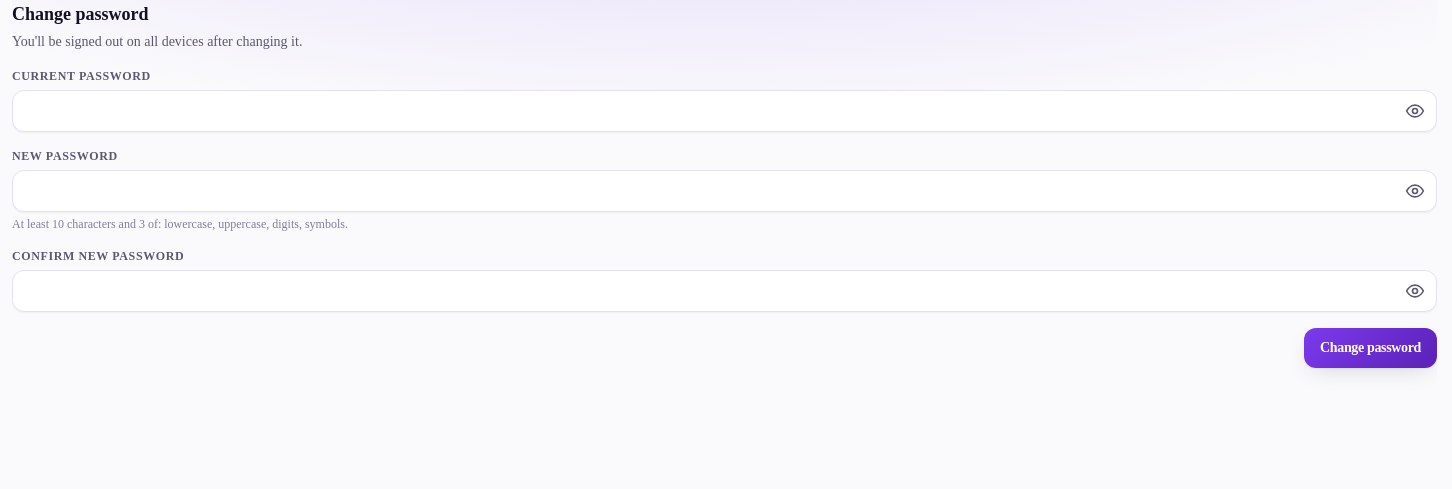
Test: ChangePasswordForm › rejects a weak new password client-side
In the password field labelled "Current password": (724, 111) [12,90,1437,132], type "OldPass123"
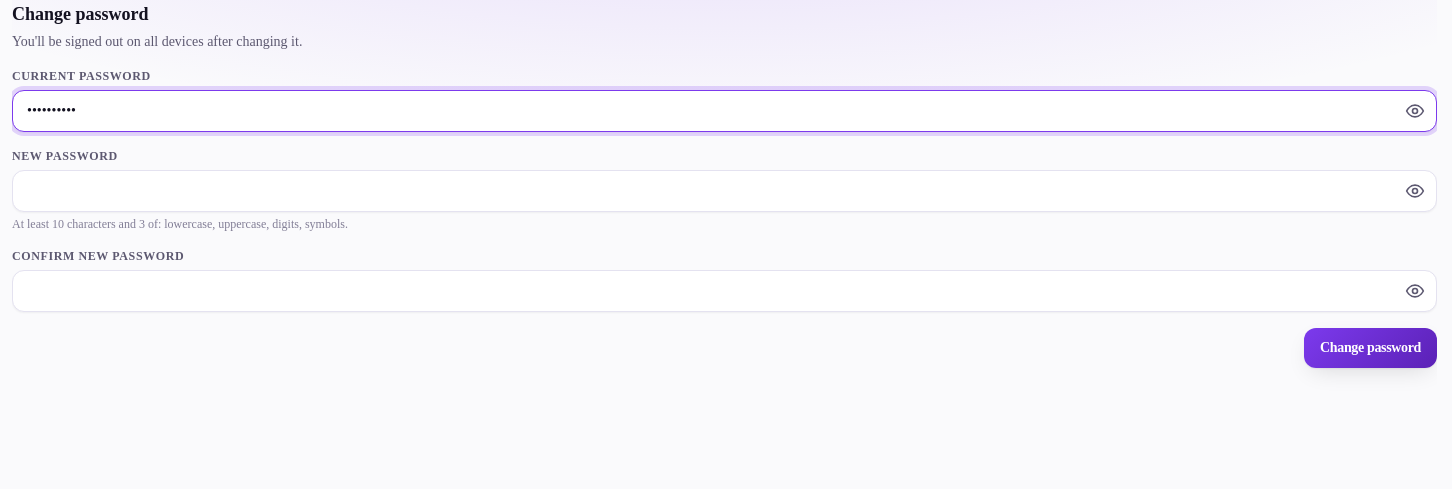
In the password field labelled "New password": (724, 191) [12,170,1437,212], type "abcdefghij"
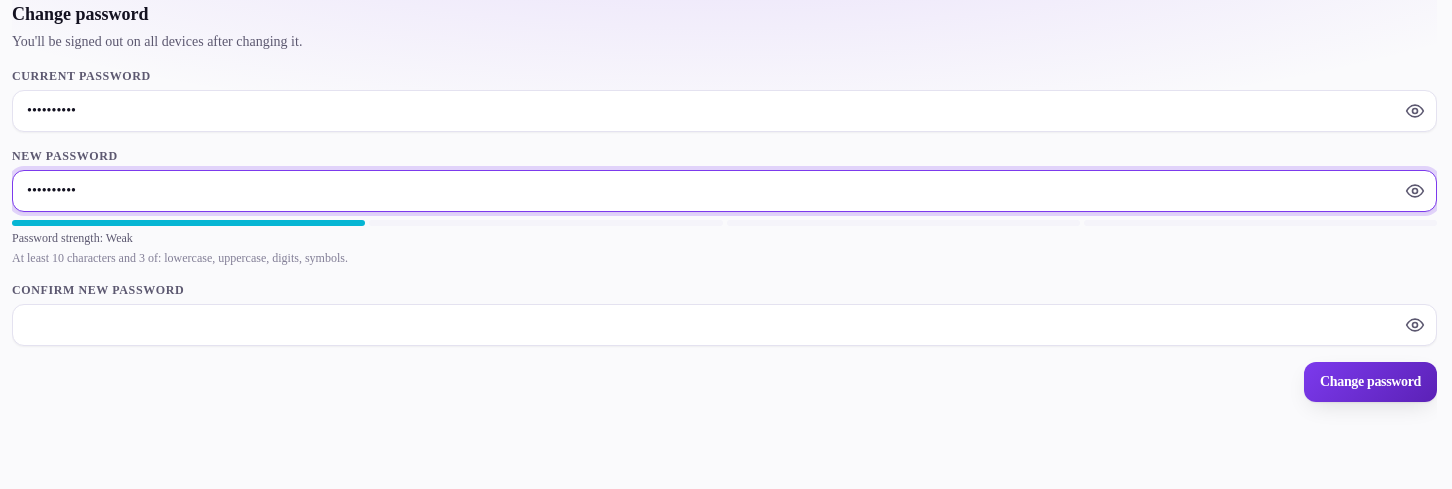
In the password field labelled "Confirm new password": (724, 325) [12,304,1437,346], type "abcdefghij"
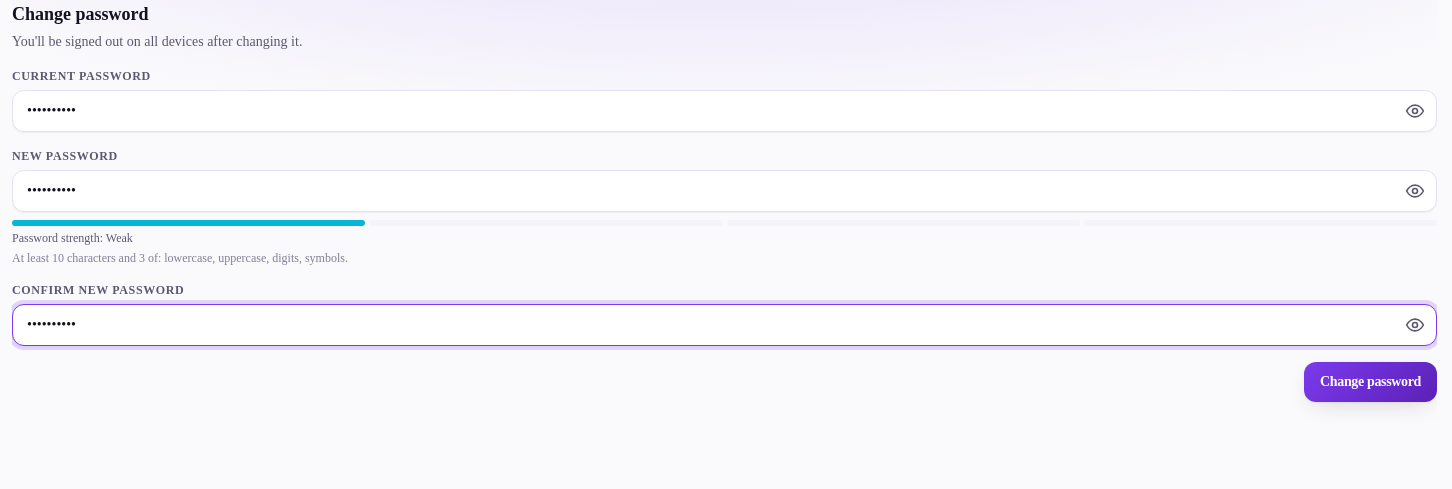
Click the button "Change password": (1370, 382) [1304,362,1437,402]
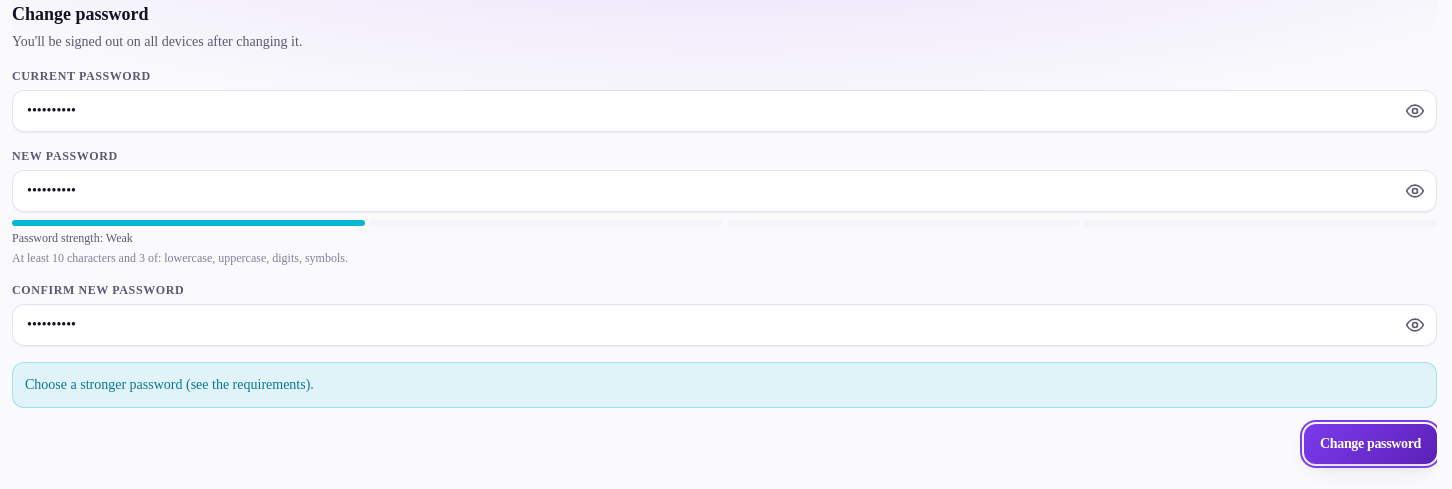
Check: the message "Choose a stronger password (see the requirements)." is shown, box [12,362,1437,408]
